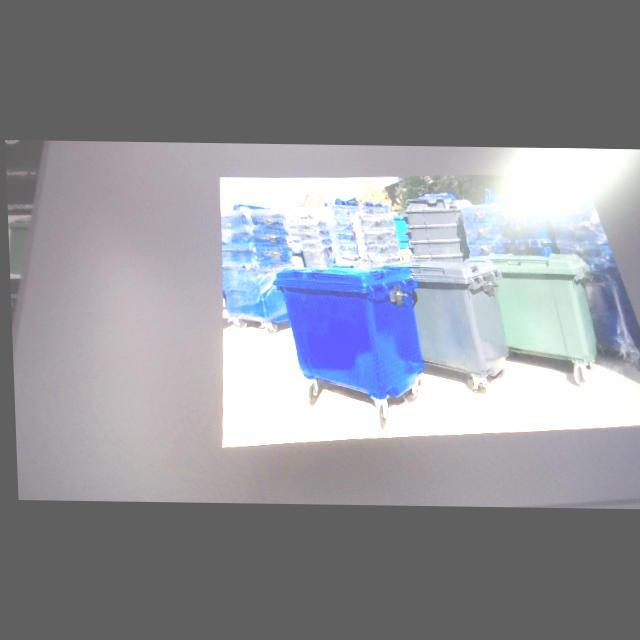Trash_Can_Closed: (271, 263, 421, 399), (378, 258, 507, 374), (468, 251, 596, 360)
